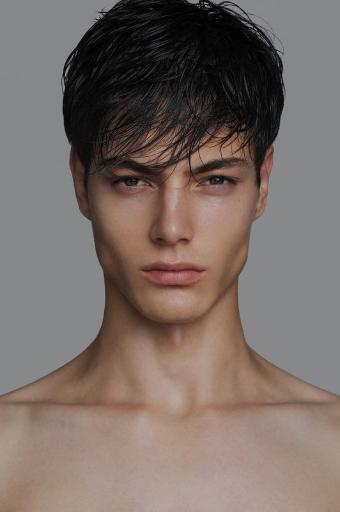left_eye: (195, 173, 240, 193)
left_lip_corner: (198, 267, 210, 279)
right_eye: (111, 174, 155, 193)
right_lip_corner: (137, 266, 149, 280)
